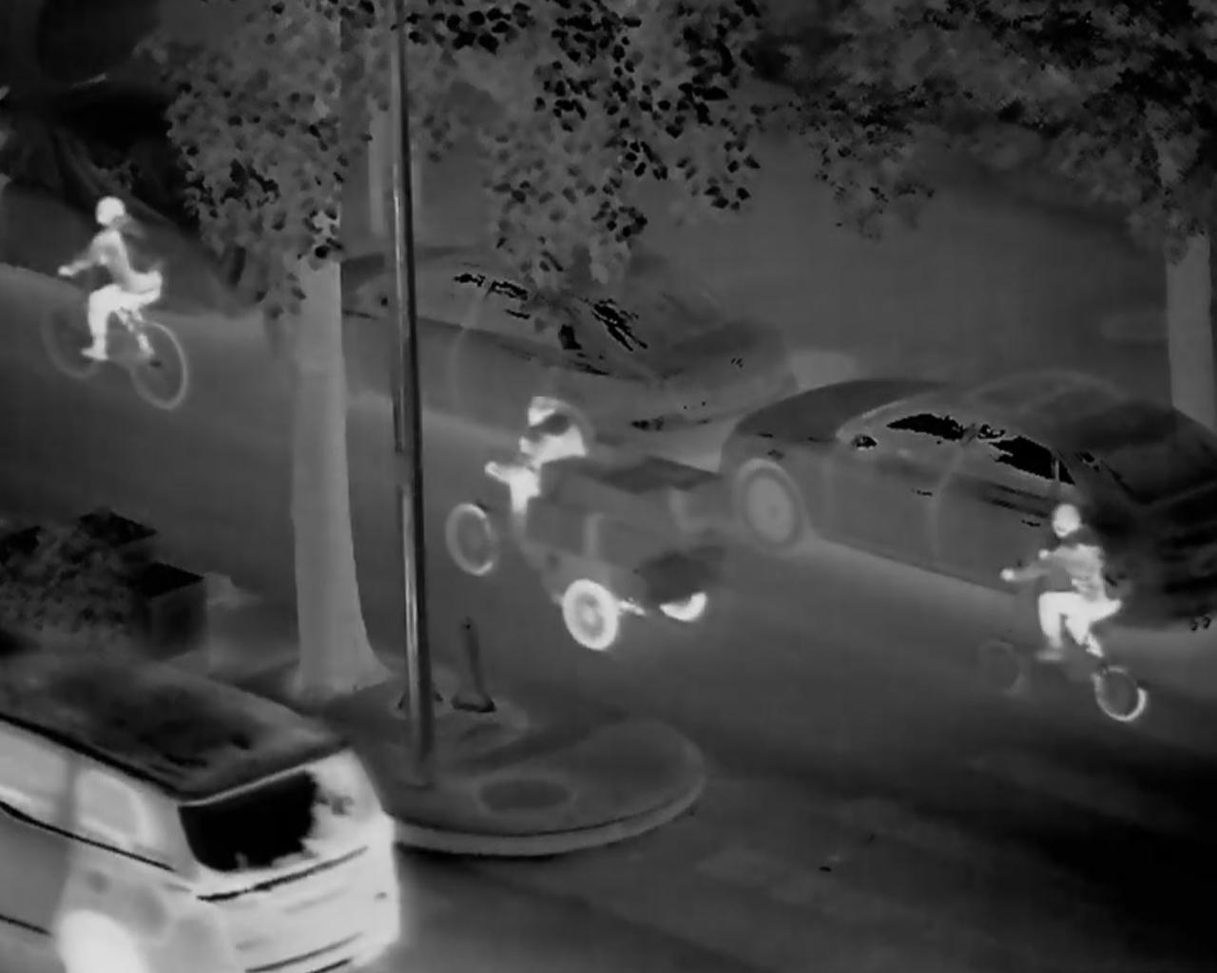person: (985, 488, 1131, 677), (65, 195, 184, 375), (481, 393, 612, 545)
